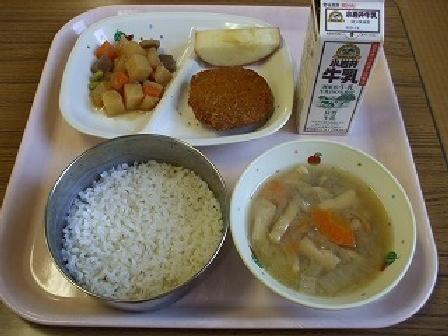Apple: (187, 10, 282, 70)
Milk: (291, 2, 394, 145)
Rice: (52, 142, 223, 306)
Soups: (246, 140, 418, 303)
cooked food meat with vegetables: (87, 30, 179, 115)
cutlet: (182, 64, 283, 141)
